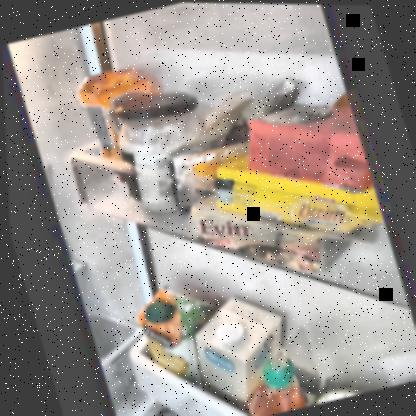butter: (184, 137, 365, 276)
milk: (183, 295, 281, 406)
